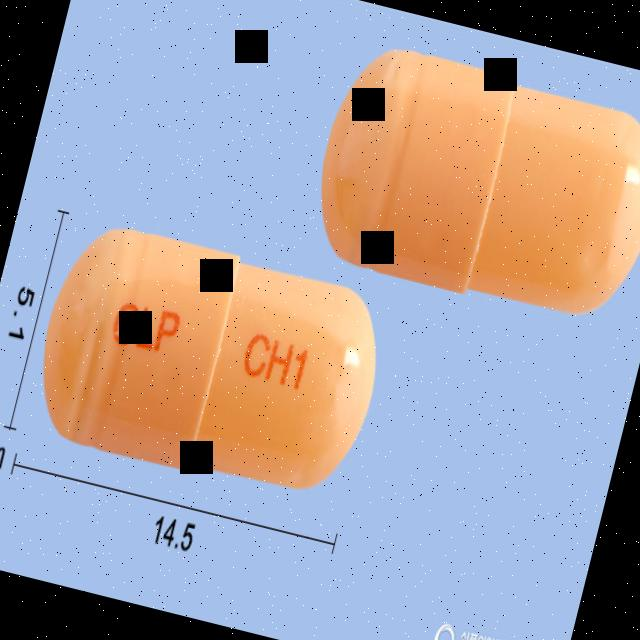Ceprion Cap: (18, 208, 402, 516)
